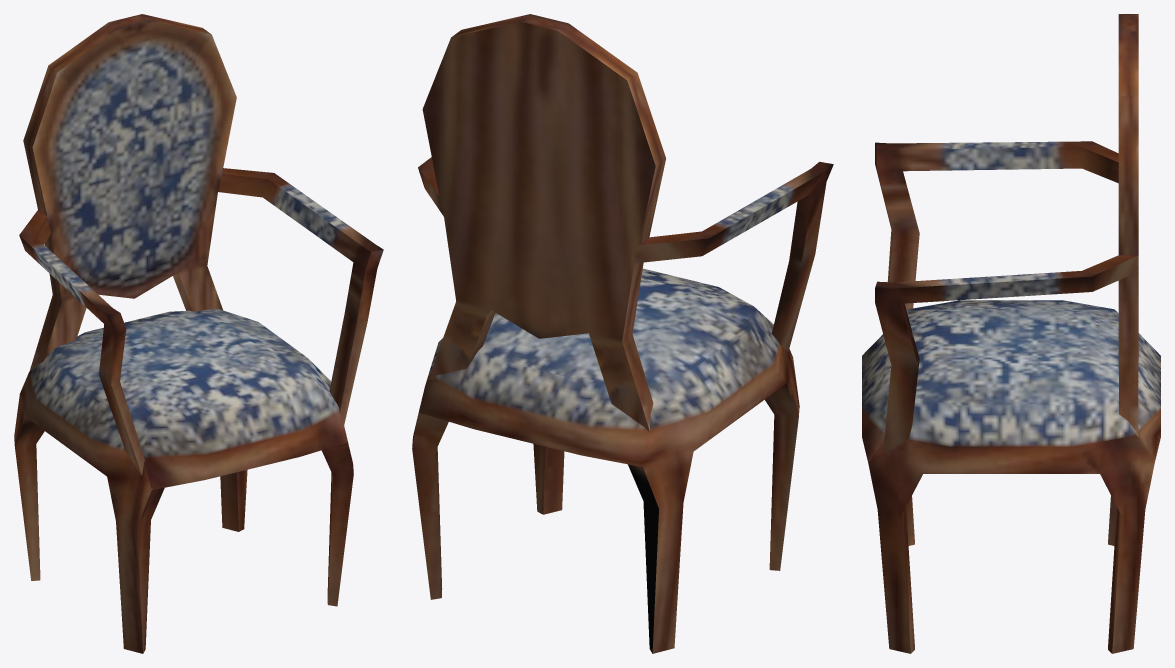
File: Chair-col.glb
3 views of the same model, side by side, from view 1: azimuth 30°, elevation 25°; view 2: azimuth 150°, elevation 25°; view 3: azimuth 270°, elevation 25° (orthographic). The views are drawn at different scales.
Visible parts, largest first — view 1: Chair-col; view 2: Chair-col; view 3: Chair-col.
Part boxes in pixels (x1,y1,x2,y2): Chair-col: (14, 14, 383, 653); Chair-col: (412, 14, 833, 653); Chair-col: (862, 14, 1160, 653).
Size of the model in its own units: 0.7317 by 1.35 by 0.6363.
1 material, 1 textured.
